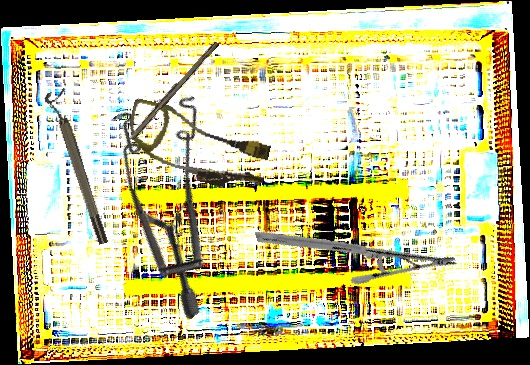Cannula: (120, 97, 275, 196)
Fixation Ring: (43, 88, 111, 248)
Needle Holder: (254, 166, 458, 332)
Scalpel Handle: (127, 38, 220, 143)
Speculum: (61, 71, 301, 321)
